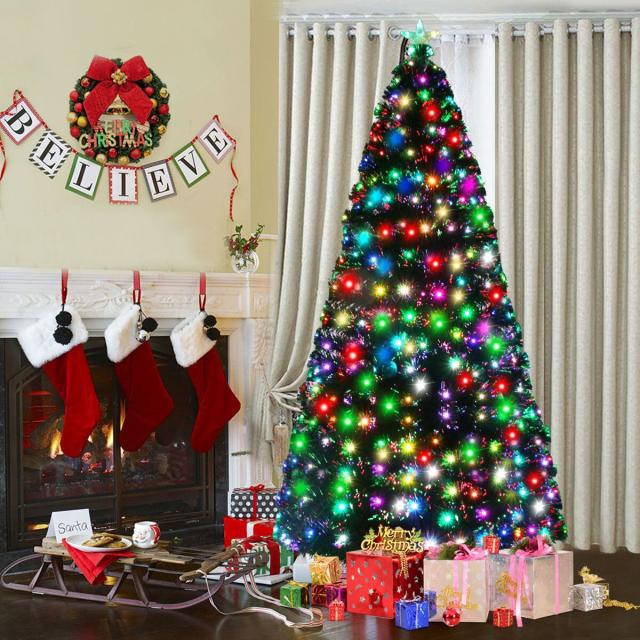Christmas-tree: (279, 21, 585, 537)
